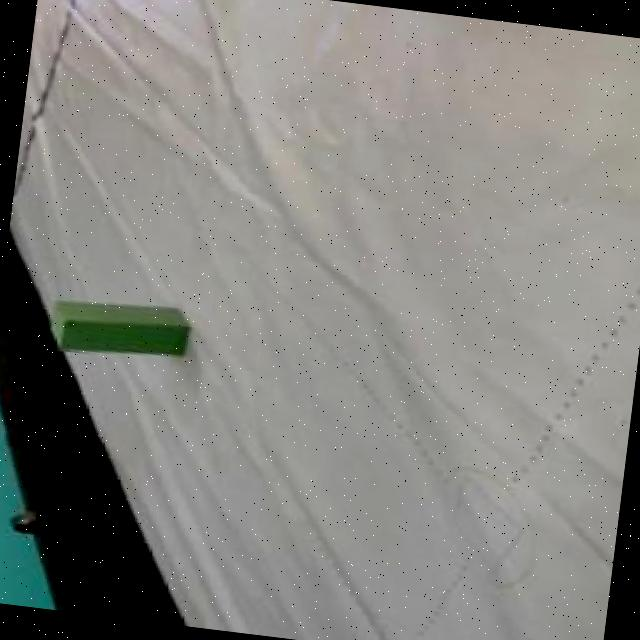greenbox: (46, 288, 193, 367)
